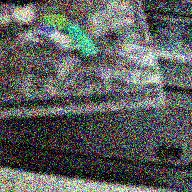러키펜정: (12, 7, 37, 25)
씨엠지세파클러캡슐: (36, 24, 74, 48)
에르도캡슐: (66, 24, 98, 58)
휴티렌정: (42, 14, 71, 32)
